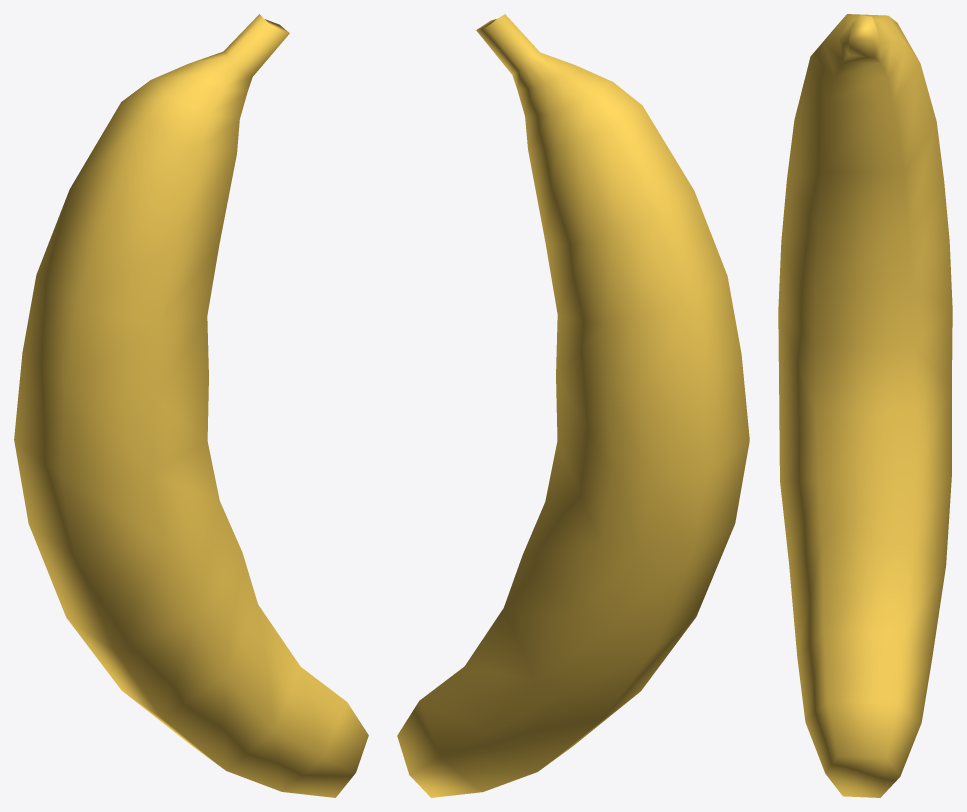
File: banana.glb
3 renders of one model, left to right at view 1: azimuth 30°, elevation 25°; view 2: azimuth 150°, elevation 25°; view 3: azimuth 270°, elevation 25°, orthographic. The views are drawn at different scales.
Visible parts, largest first — view 1: Cylinder; view 2: Cylinder; view 3: Cylinder.
Boxes of the visible parts, x1,y1,x2,y2 form: Cylinder: [14, 14, 368, 797]; Cylinder: [397, 14, 749, 797]; Cylinder: [778, 14, 952, 797].
Bounding box in the file's own units: 4.46 × 10.58 × 2.22.
